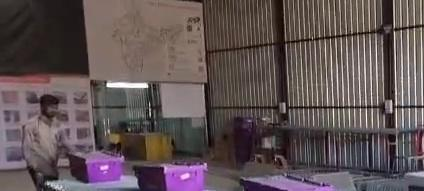box: (134, 162, 206, 190), (68, 151, 123, 182), (240, 175, 332, 190)
